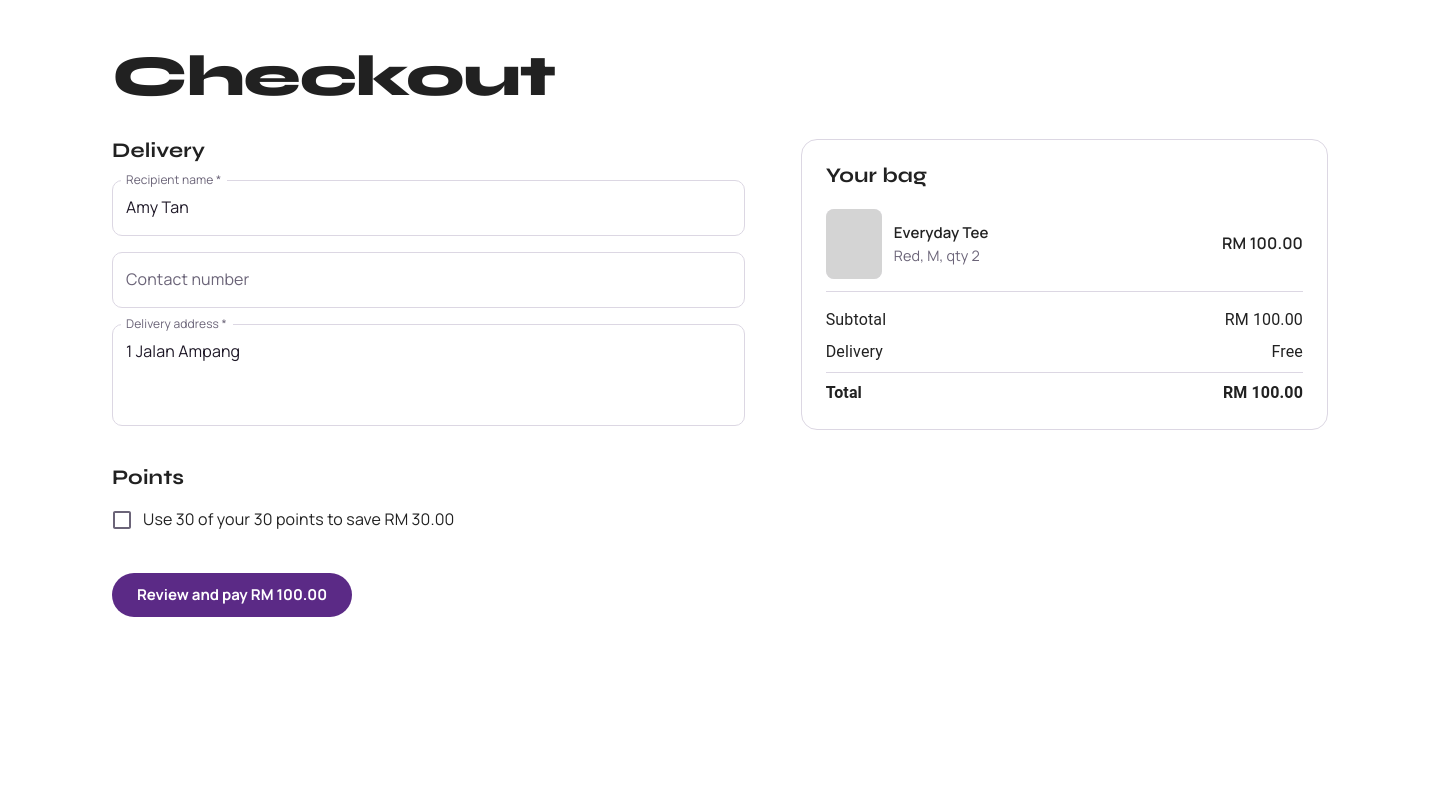
Test: shows the server reason when an order fails
Click the button "Review and pay RM 100.00": [232, 595] box [112,573,352,617]
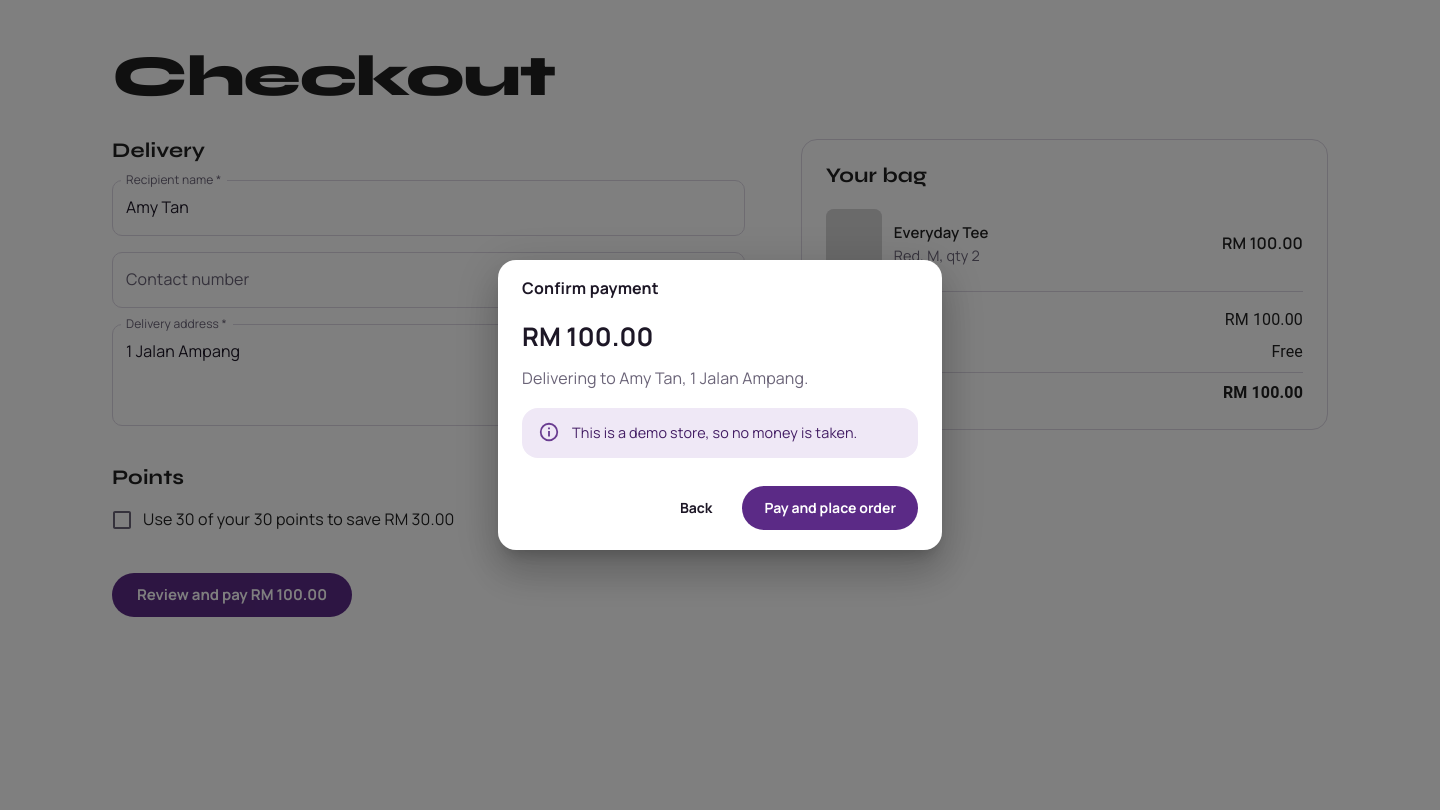
Click the button "Pay and place order": [830, 508] box [742,486,918,530]
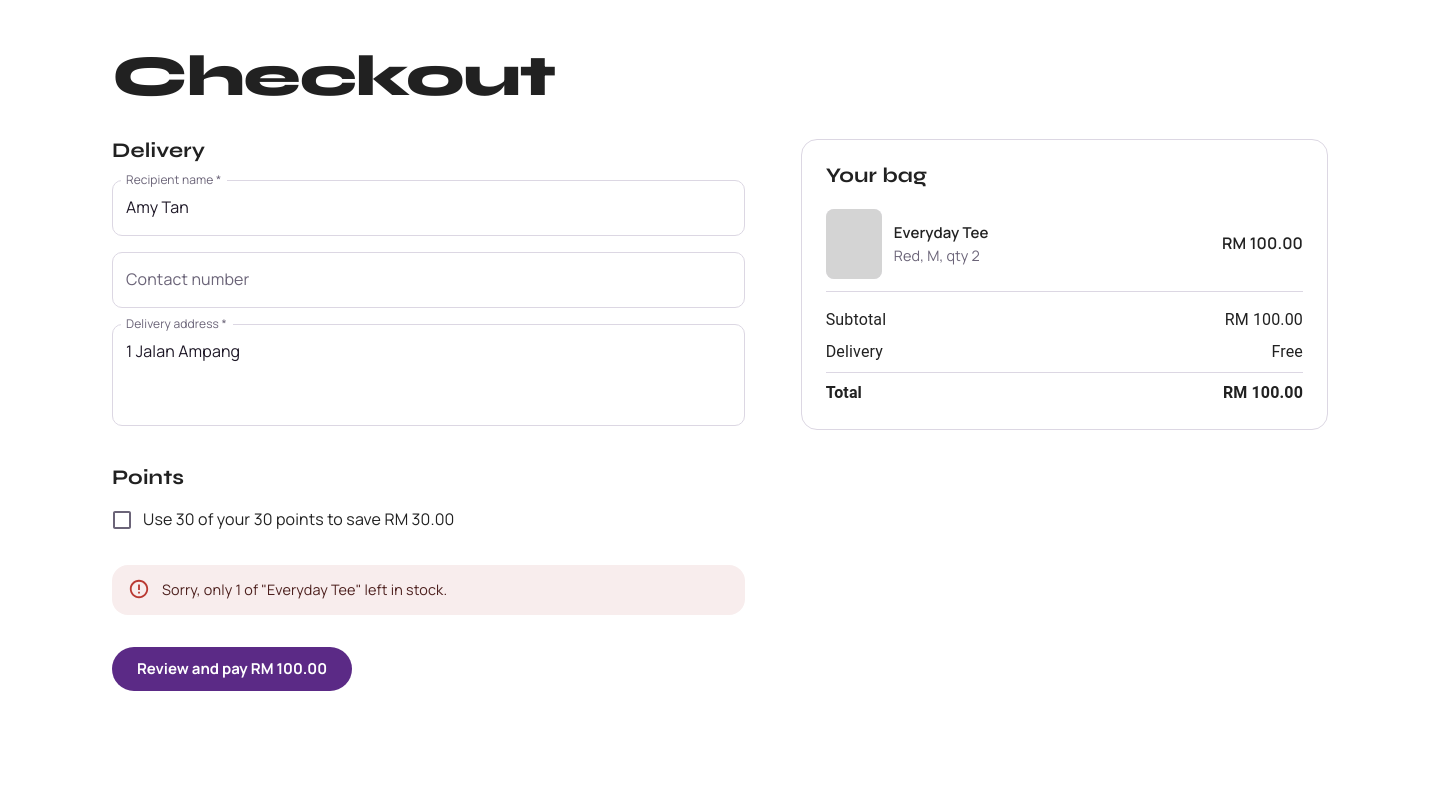
Result: the text "Sorry, only 1 of \"Everyday Tee\" left in stock." is shown at [162,580,447,599]
